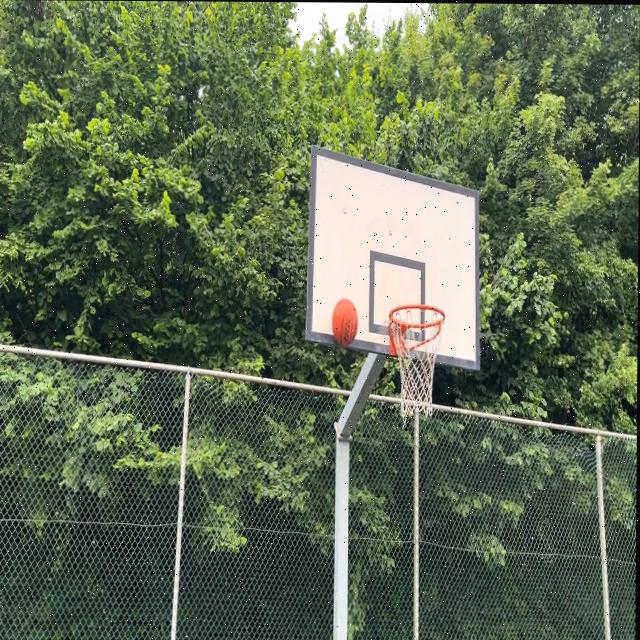rebound_hit: (331, 298, 359, 345)
